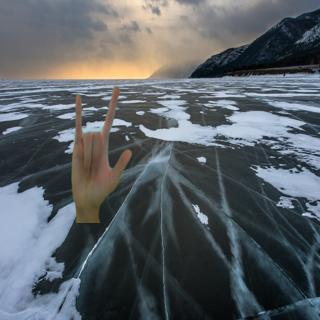ILY: (68, 81, 134, 211)
